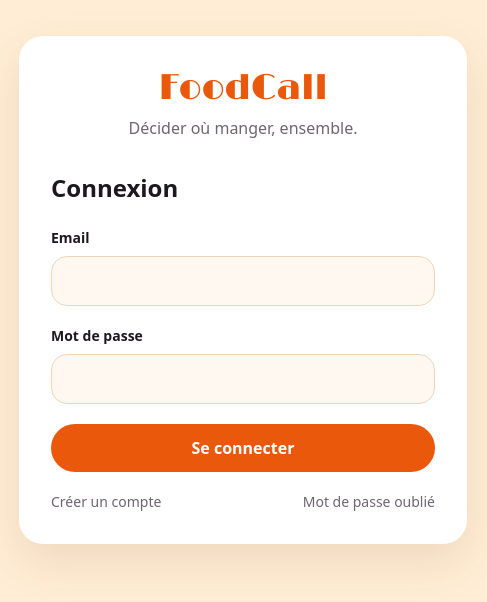
Scenario: LoginPage › renders "Trop de requêtes. Réessaie plus tard." for 429
Step 1. Type "thomas@foodcall.test" into the field labelled "Email" → x=243, y=281, box top-left (51, 256), bottom-right (435, 306)
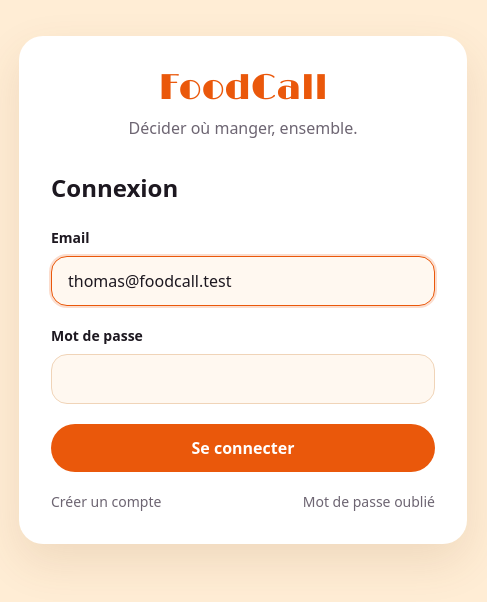
Step 2. Type "Password123!" into the password field labelled "Mot de passe" → x=243, y=379, box top-left (51, 354), bottom-right (435, 404)
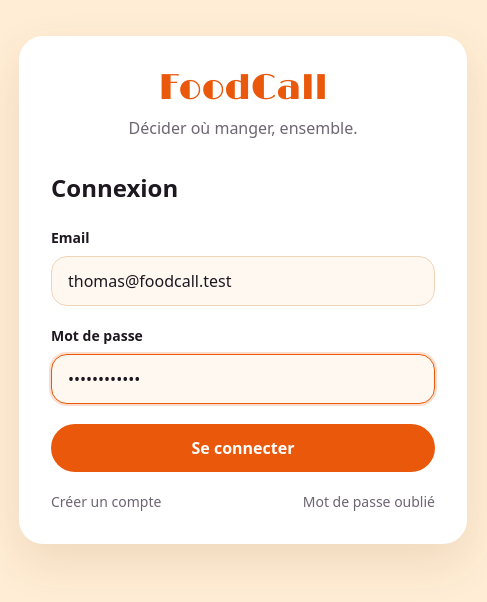
Step 3. Click the button "Se connecter" → x=243, y=448, box top-left (51, 424), bottom-right (435, 472)
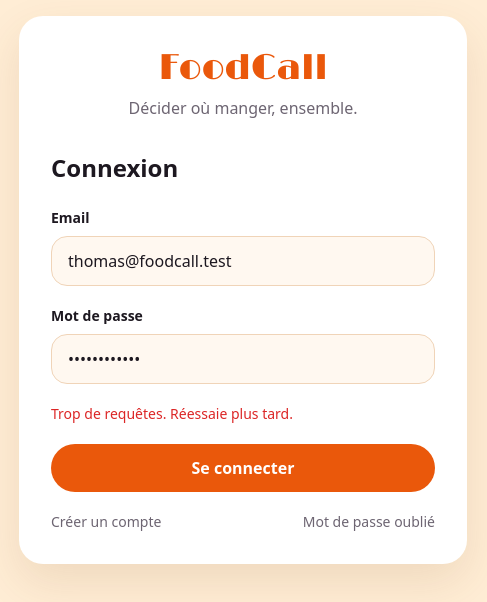
Expected: the message reads "Trop de requêtes. Réessaie plus tard.", top-left (51, 404), bottom-right (293, 423)
